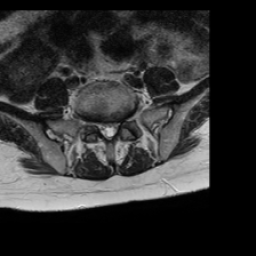CCS_normal: (105, 115, 111, 145)
LFS_severe_stenosis: (119, 110, 126, 129)
LLS_normal: (111, 115, 119, 139)
RFS_severe_stenosis: (90, 112, 97, 132)
RLS_normal: (97, 114, 105, 141)
